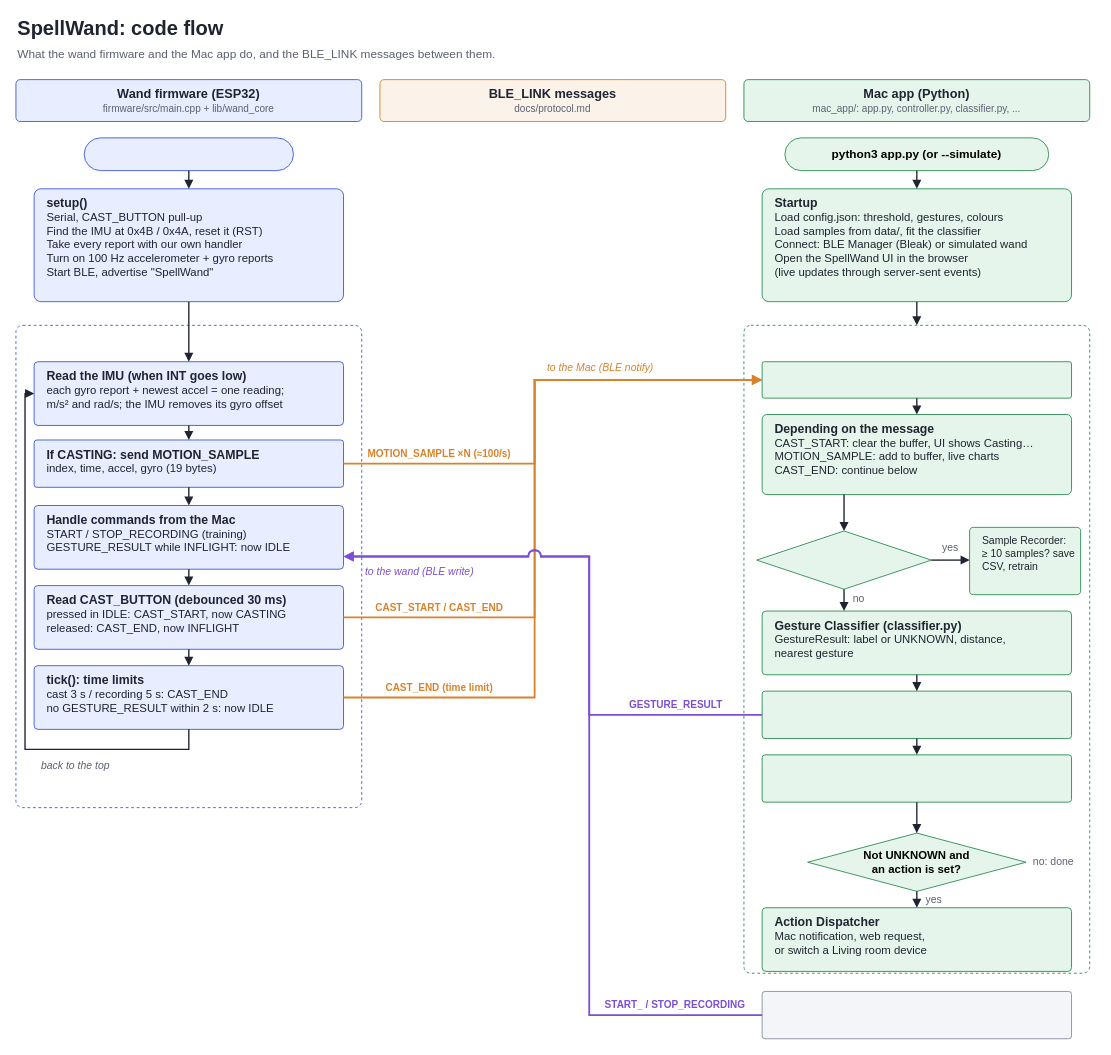
Image size: 1111x1055. Some labels were removed from this diagram. The shapes that lost their labels are listed below. From the top down, each one's box as (x1, y1, x2, y2) in pixels, then its label:
(83, 137, 293, 171): Power on (USB plugged in)
(761, 361, 1072, 398): Decode the message (protocol.py)
(15, 324, 362, 808): loop(): runs continuously
(756, 530, 931, 589): Training recording?
(743, 324, 1090, 973): controller.py: for each message from the wand
(761, 690, 1072, 738): Send GESTURE_RESULT just the label; colours stay on the Mac
(761, 754, 1072, 802): Show the result in the UI label, distance, 3D trail, live charts
(761, 991, 1072, 1039): Training buttons in the SpellWand UI Start recording / Stop and save
